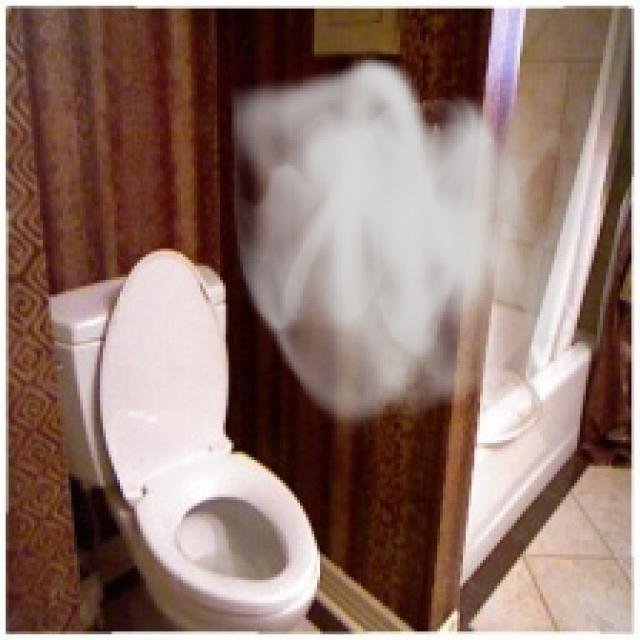smoke: (220, 54, 597, 437)
